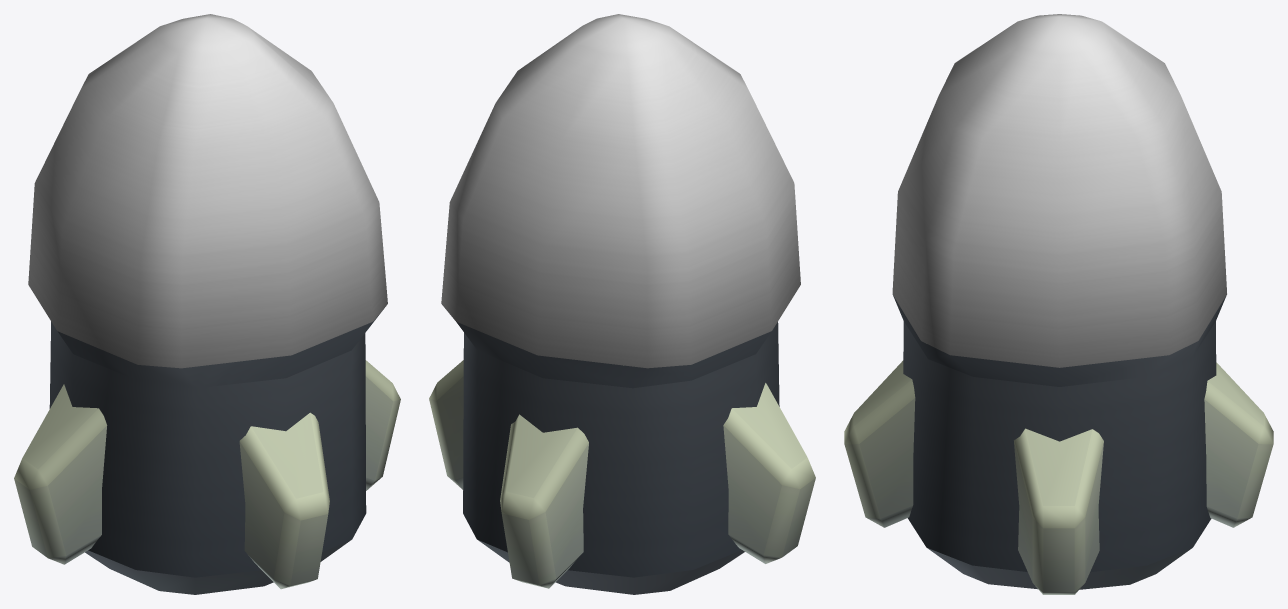
File: Cannon 3 Bullet.fbx
The picture shows the model from 3 angles, left to right: view 1: azimuth 30°, elevation 25°; view 2: azimuth 150°, elevation 25°; view 3: azimuth 270°, elevation 25°; orthographic projection.
Parts seen in each view (by area): view 1: Cannon_3_Bullet; view 2: Cannon_3_Bullet; view 3: Cannon_3_Bullet.
Boxes of the visible parts, x1,y1,x2,y2 form: Cannon_3_Bullet: [14, 14, 400, 594]; Cannon_3_Bullet: [429, 14, 815, 594]; Cannon_3_Bullet: [844, 14, 1273, 594].
Bounding box in the file's own units: 43.94 × 59.57 × 43.94.
Materials: 2 (2 with a texture image).
